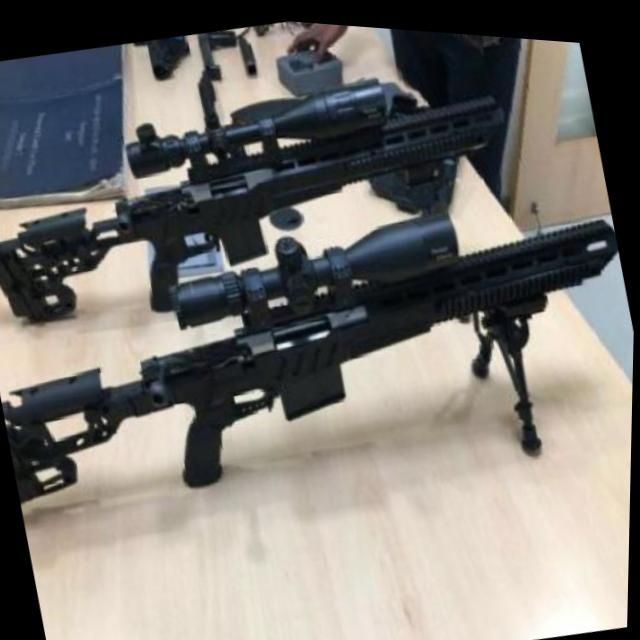weapon: (0, 159, 637, 556), (0, 51, 535, 363)
